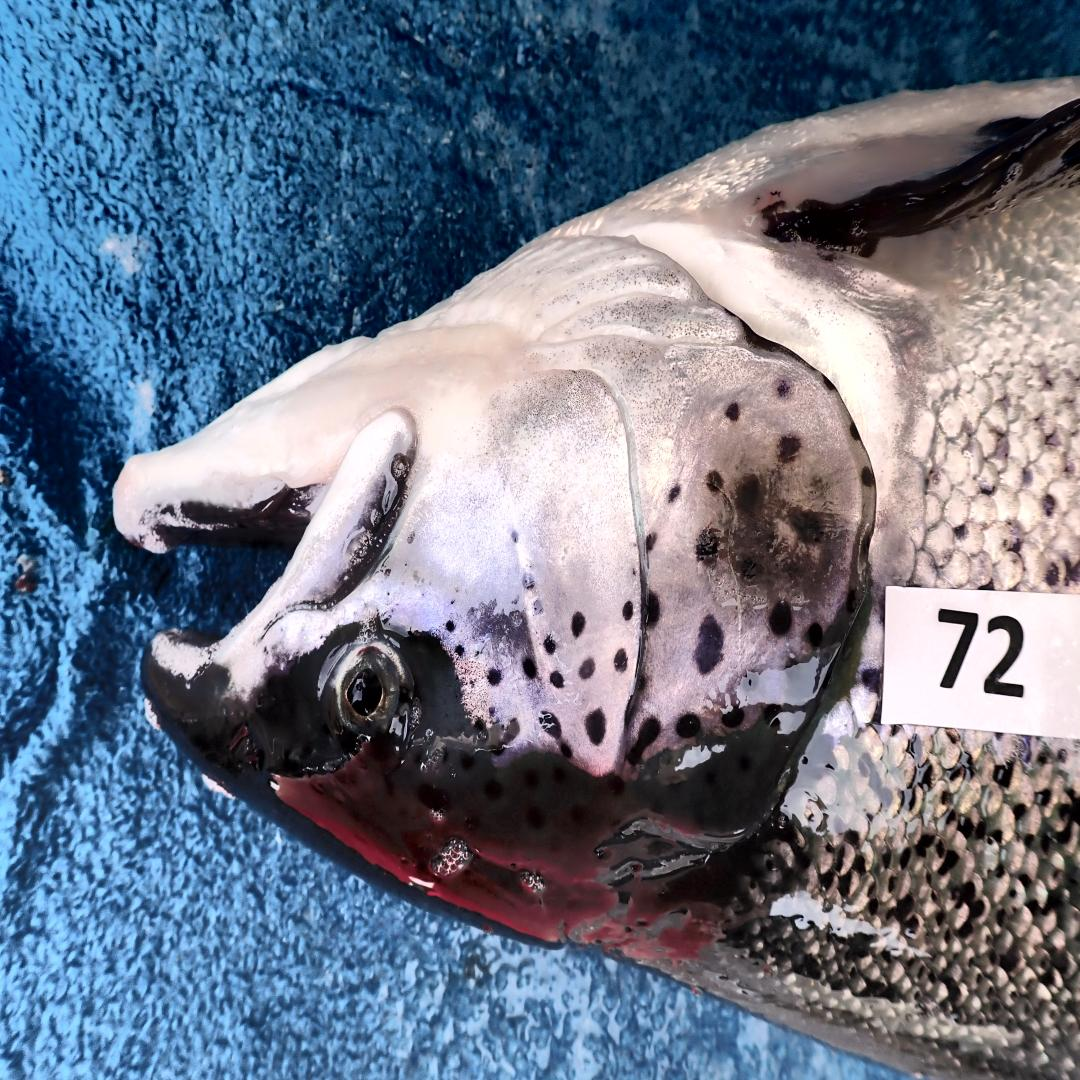spot: (537, 708, 573, 759), (694, 614, 724, 674), (626, 717, 660, 766), (790, 508, 825, 543), (489, 720, 522, 753), (735, 474, 762, 513), (696, 527, 721, 560), (585, 708, 606, 745), (769, 602, 792, 635), (674, 713, 701, 738), (778, 434, 801, 463), (721, 707, 745, 728), (647, 591, 660, 626), (806, 622, 823, 648), (706, 470, 724, 492), (740, 557, 758, 579), (579, 657, 595, 679), (572, 612, 585, 638), (613, 648, 627, 671), (725, 401, 740, 422), (861, 467, 875, 487), (522, 658, 536, 678), (776, 379, 791, 397), (667, 483, 680, 503), (543, 635, 556, 654), (487, 669, 502, 685), (646, 532, 657, 553), (473, 717, 487, 733), (550, 671, 563, 688), (622, 601, 633, 620), (850, 422, 860, 441), (524, 574, 535, 588), (454, 644, 464, 657), (533, 600, 543, 613), (445, 620, 455, 632), (511, 528, 518, 542), (488, 707, 495, 716)
